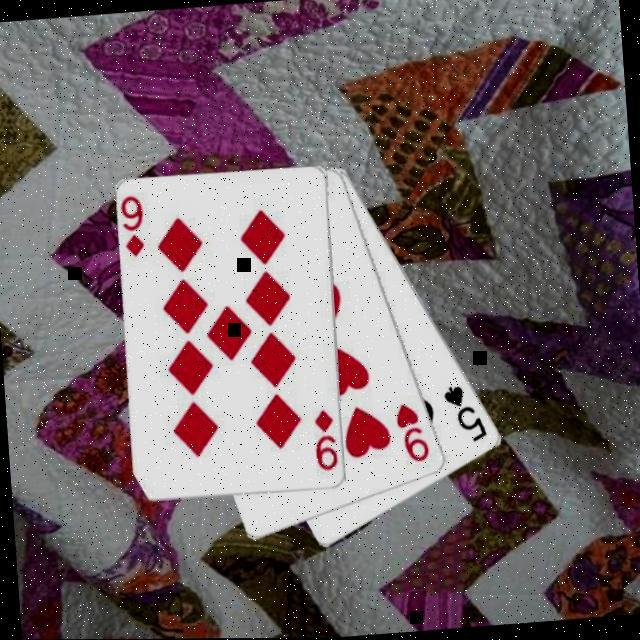5S: (442, 382, 492, 449)
9D: (311, 409, 342, 477), (121, 194, 150, 262)
9H: (393, 400, 436, 468)
